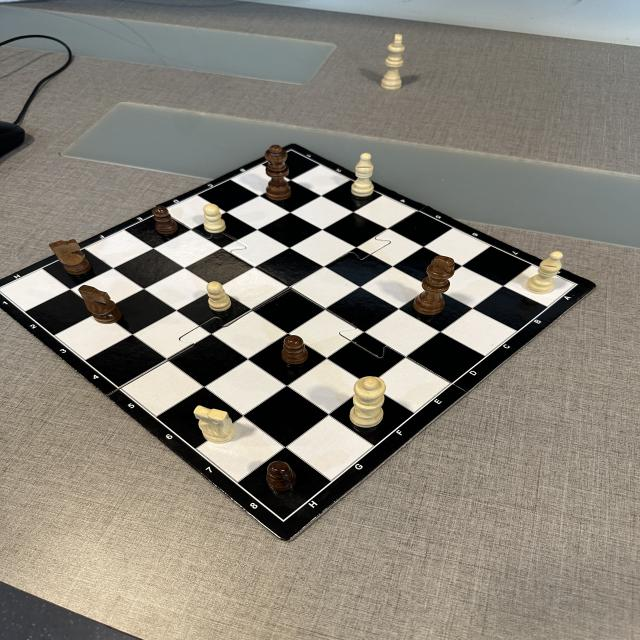Black-King: (414, 256, 454, 315)
Black-Knight: (78, 284, 122, 324), (48, 239, 92, 275)
Black-Pawn: (266, 461, 297, 492), (282, 335, 308, 364), (152, 206, 178, 235)
Black-Queen: (265, 145, 291, 201)
White-Bishop: (526, 251, 562, 294), (352, 153, 374, 196)
White-King: (380, 34, 406, 90)
White-Knight: (194, 406, 235, 444)
White-Pawn: (207, 281, 231, 312), (203, 204, 226, 234)
White-Queen: (349, 376, 386, 428)
